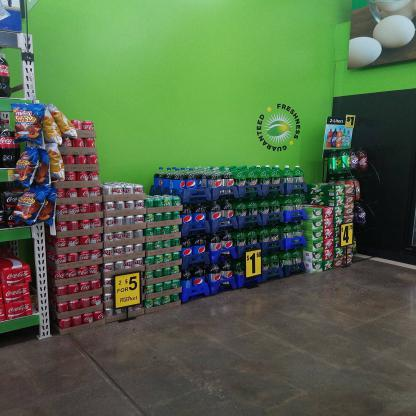Void: (4, 244, 32, 260)
